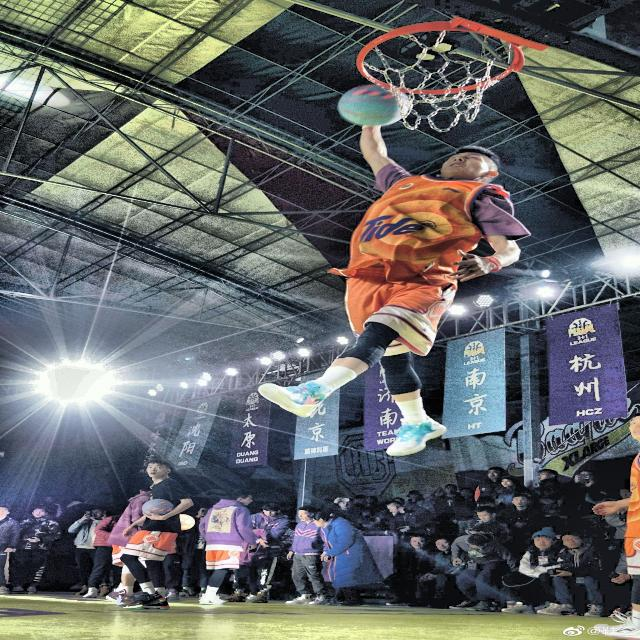board: (336, 84, 404, 126), (141, 498, 175, 516)
